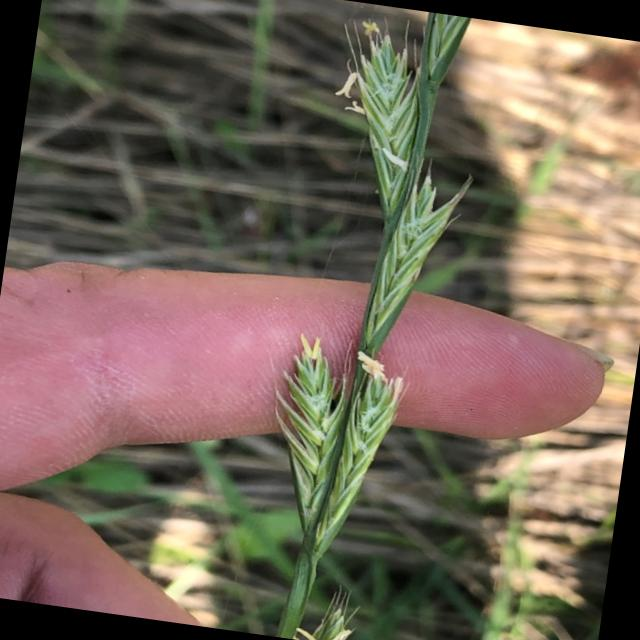Lolium: (239, 0, 497, 640)
